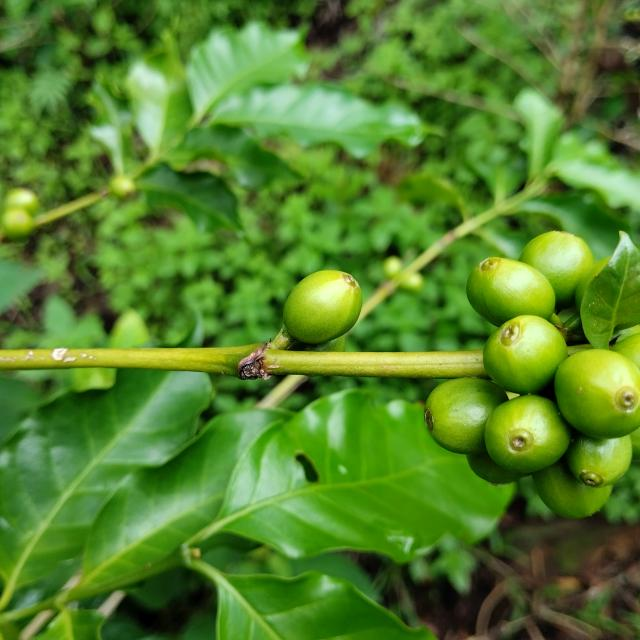green: (555, 349, 640, 439), (485, 395, 572, 474), (484, 315, 569, 395), (424, 378, 509, 455), (467, 257, 557, 327), (520, 231, 596, 310), (283, 270, 362, 344), (533, 459, 613, 519), (566, 433, 634, 488), (611, 333, 640, 369)
